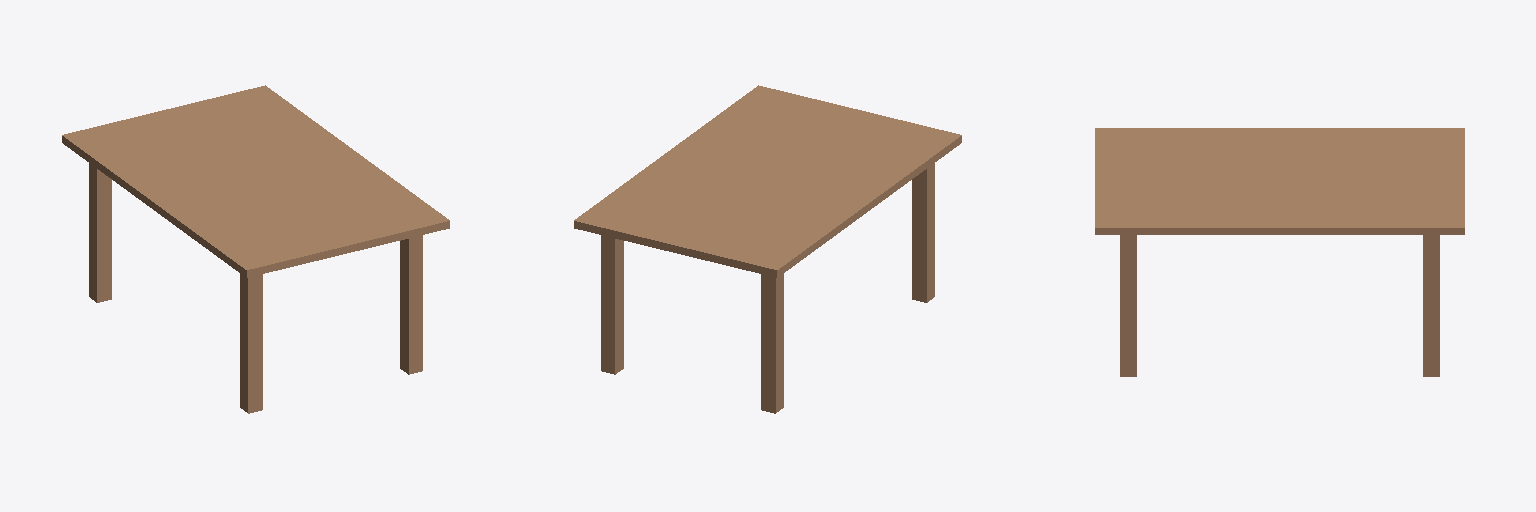
The picture shows the model from 3 angles: view 1: azimuth 30°, elevation 25°; view 2: azimuth 150°, elevation 25°; view 3: azimuth 270°, elevation 25°; orthographic projection.
Parts seen in each view (by area): view 1: Platte, Bein, Bein_1, Bein_2; view 2: Platte, Bein_2, Bein_3, Bein; view 3: Platte, Bein_1, Bein_3.
Part boxes in pixels (left/top/right/bottom): Platte: left=62, top=85, right=449, bottom=277; Bein: left=240, top=274, right=262, bottom=413; Bein_1: left=400, top=235, right=422, bottom=374; Bein_2: left=89, top=163, right=111, bottom=302; Platte: left=574, top=85, right=961, bottom=277; Bein_2: left=761, top=274, right=783, bottom=413; Bein_3: left=601, top=235, right=623, bottom=374; Bein: left=912, top=163, right=934, bottom=302; Platte: left=1095, top=128, right=1464, bottom=234; Bein_1: left=1120, top=235, right=1136, bottom=376; Bein_3: left=1423, top=235, right=1439, bottom=376.
Bounding box in the file's own units: 4.19 × 3.07 × 6.58.
Materials: 1 (1 with a texture image).